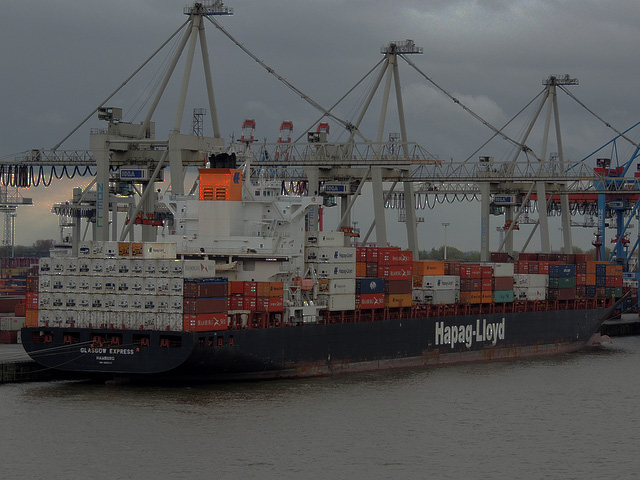container_ship: (16, 164, 620, 378)
